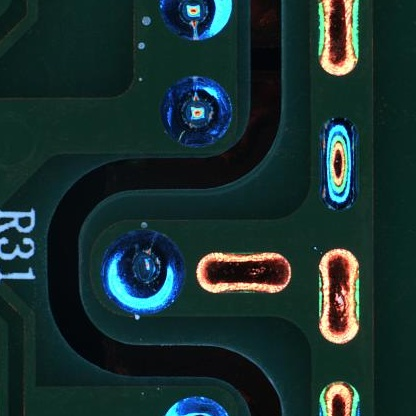spot: (99, 229, 185, 317), (160, 75, 233, 149), (158, 1, 232, 44), (162, 395, 233, 416)
